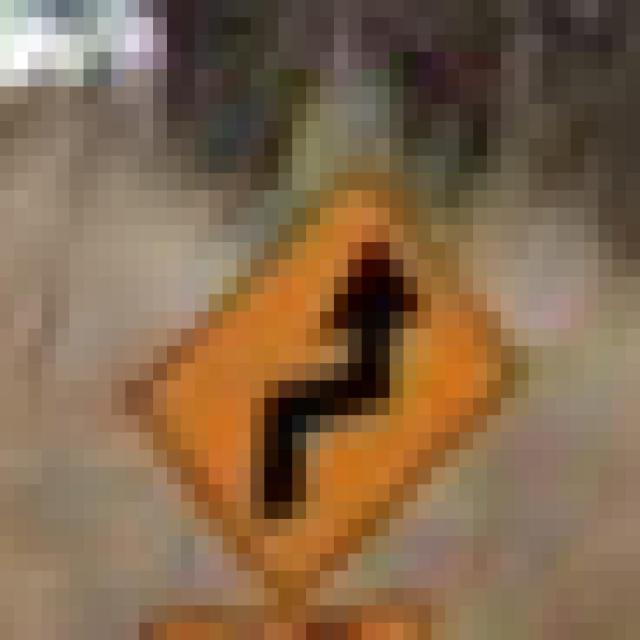Tikungan Ganda Pertama Ke Kanan: (70, 121, 528, 588)
